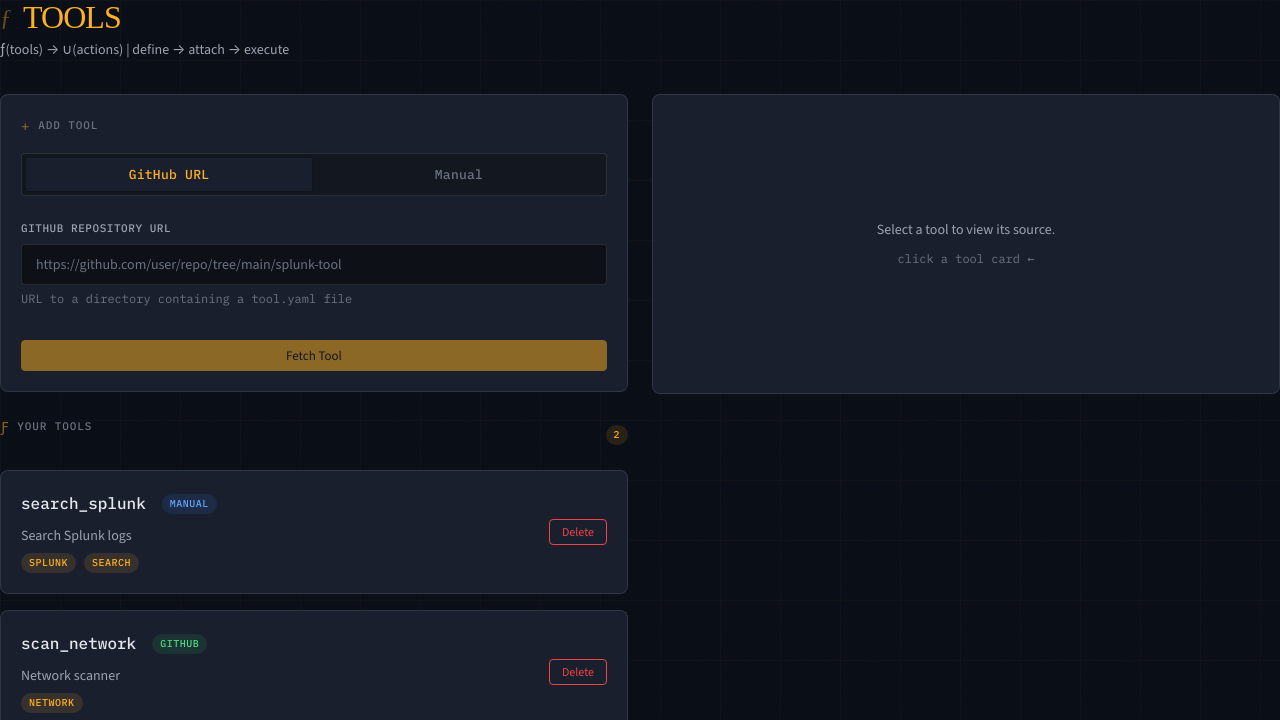
Test: Tools page › shows confirm dialog on delete click
Expected: the heading "search_splunk" is shown, [21,491,146,517]
What coordinates should you click on to do the following:
click the 1st button "Delete"
I would click on:
 (578, 532)
Its box is [549,519,607,545].
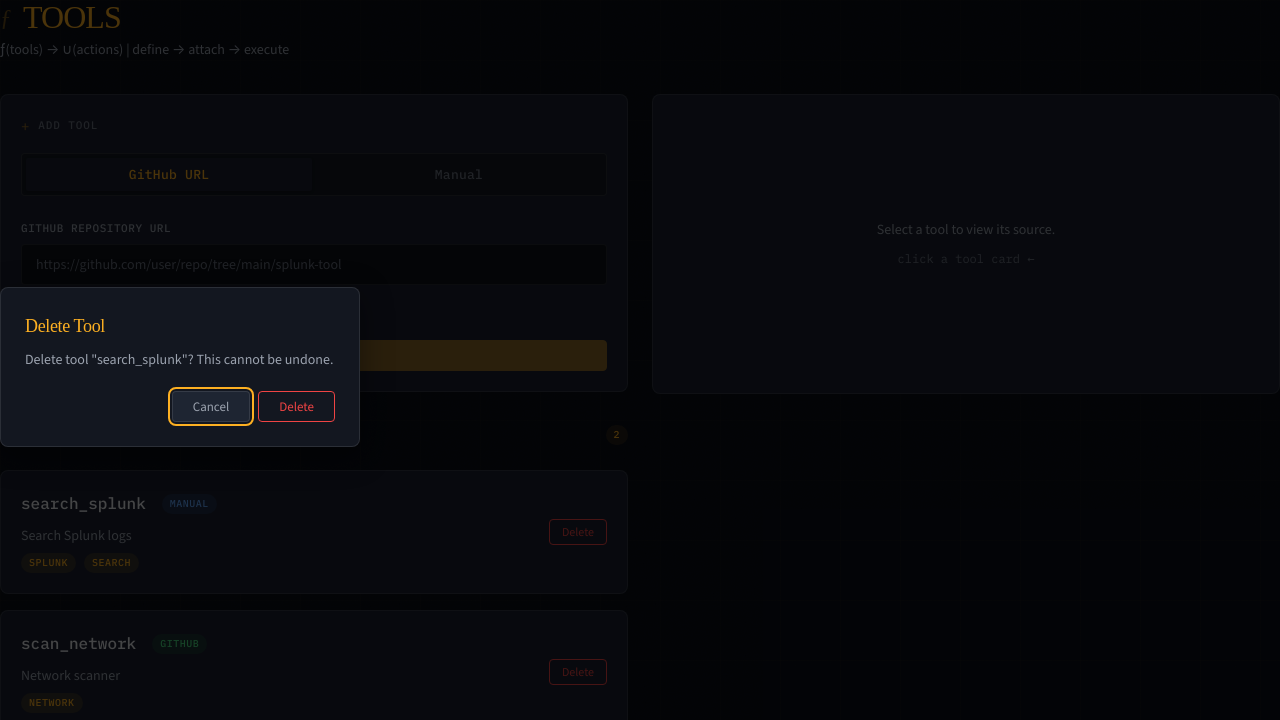
Result: the text "Delete Tool" is shown at [25,316,105,336]
